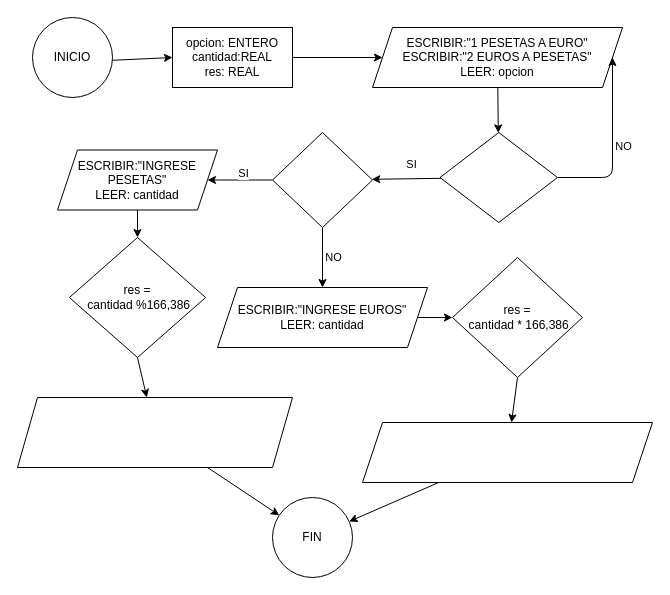
The diagram is 670 pixels wide and 595 high, and some of its shapes have lost their labels. Each missing label, with the centre of its shape:
ESCRIBIR: "La cantidad de Euros son res pesetas": pixel 507 452
ESCRIBIR: "La cantidad de pesetas son res Euros": pixel 154 432
opcion = 1: pixel 322 180
opcion = 1 OR 2: pixel 498 177
